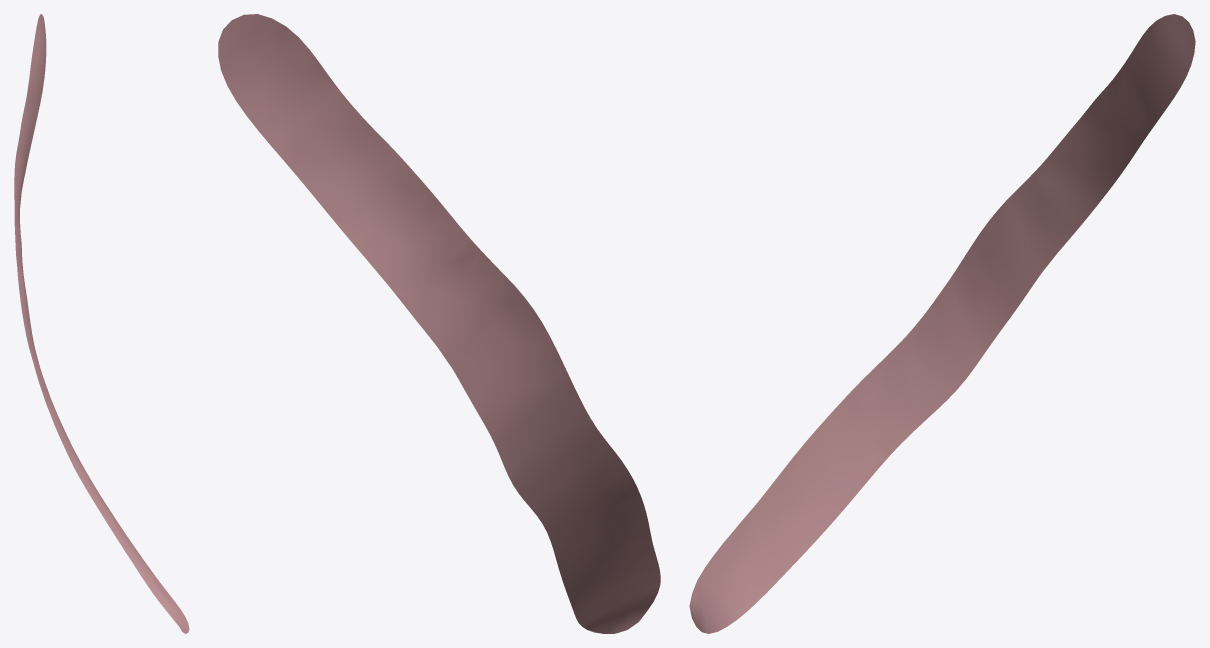
Rendered from fma75088-r_mm1606m.glb.
The picture shows the model from 3 angles, left to right: view 1: azimuth 30°, elevation 25°; view 2: azimuth 150°, elevation 25°; view 3: azimuth 270°, elevation 25°; orthographic projection. The views are drawn at different scales.
Visible parts, largest first — view 1: FMA75088-R_MM1606M; view 2: FMA75088-R_MM1606M; view 3: FMA75088-R_MM1606M.
Boxes of the visible parts, x1,y1,x2,y2 form: FMA75088-R_MM1606M: [14, 14, 189, 633]; FMA75088-R_MM1606M: [218, 14, 660, 633]; FMA75088-R_MM1606M: [689, 14, 1195, 633].
Bounding box in the file's own units: 0.00858 × 0.0361 × 0.026.
